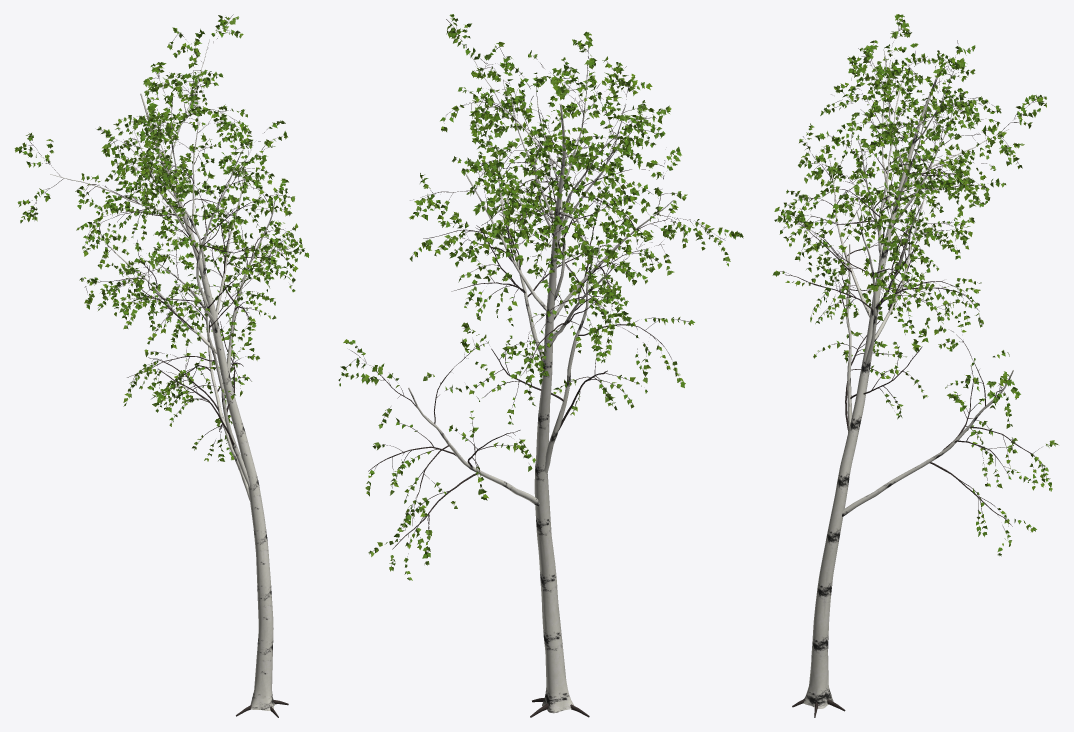
Rendered from tree_birch.glb.
3 views of the same model, side by side, from view 1: azimuth 30°, elevation 25°; view 2: azimuth 150°, elevation 25°; view 3: azimuth 270°, elevation 25° (orthographic). The views are drawn at different scales.
Visible parts, largest first — view 1: lod0_tree_birch_bark, lod0_tree_birch_bark_dark, lod0_tree_birch_leaf_b, lod0_tree_birch_leaf_c, lod0_tree_birch_leaf_a, lod1_tree_birch_leaf_b, lod1_tree_birch_leaf_a, lod1_tree_birch_leaf_c, lod1_tree_birch_bark, lod1_tree_birch_bark_dark; view 2: lod0_tree_birch_bark, lod0_tree_birch_bark_dark, lod0_tree_birch_leaf_b, lod0_tree_birch_leaf_a, lod0_tree_birch_leaf_c, lod1_tree_birch_leaf_a, lod1_tree_birch_leaf_c, lod1_tree_birch_leaf_b, lod1_tree_birch_bark; view 3: lod0_tree_birch_bark, lod0_tree_birch_bark_dark, lod0_tree_birch_leaf_b, lod0_tree_birch_leaf_a, lod0_tree_birch_leaf_c, lod1_tree_birch_leaf_b, lod1_tree_birch_leaf_a, lod1_tree_birch_leaf_c, lod1_tree_birch_bark, lod1_tree_birch_bark_dark.
Part boxes in pixels (x1,y1,x2,y2): lod0_tree_birch_bark: (50, 39, 276, 710); lod0_tree_birch_bark_dark: (21, 14, 301, 717); lod0_tree_birch_leaf_b: (15, 18, 308, 461); lod0_tree_birch_leaf_c: (14, 17, 309, 460); lod0_tree_birch_leaf_a: (19, 16, 306, 460); lod1_tree_birch_leaf_b: (19, 18, 308, 461); lod1_tree_birch_leaf_a: (18, 16, 302, 459); lod1_tree_birch_leaf_c: (22, 15, 305, 461); lod1_tree_birch_bark: (100, 102, 274, 710); lod1_tree_birch_bark_dark: (42, 78, 287, 716); lod0_tree_birch_bark: (408, 53, 673, 713); lod0_tree_birch_bark_dark: (344, 19, 726, 717); lod0_tree_birch_leaf_b: (339, 14, 742, 570); lod0_tree_birch_leaf_a: (338, 14, 743, 580); lod0_tree_birch_leaf_c: (345, 24, 739, 573); lod1_tree_birch_leaf_a: (346, 14, 730, 574); lod1_tree_birch_leaf_c: (343, 30, 739, 580); lod1_tree_birch_leaf_b: (340, 19, 742, 569); lod1_tree_birch_bark: (426, 68, 648, 712); lod0_tree_birch_bark: (803, 49, 1013, 708); lod0_tree_birch_bark_dark: (779, 20, 1050, 717); lod0_tree_birch_leaf_b: (772, 15, 1055, 554); lod0_tree_birch_leaf_a: (775, 16, 1054, 544); lod0_tree_birch_leaf_c: (775, 14, 1058, 554); lod1_tree_birch_leaf_b: (774, 14, 1051, 555); lod1_tree_birch_leaf_a: (777, 20, 1055, 555); lod1_tree_birch_leaf_c: (776, 18, 1054, 556); lod1_tree_birch_bark: (804, 54, 996, 705); lod1_tree_birch_bark_dark: (792, 100, 1020, 715).
Bounding box in the file's own units: 5.21 × 12.25 × 4.79.
5 materials, 5 textured.
